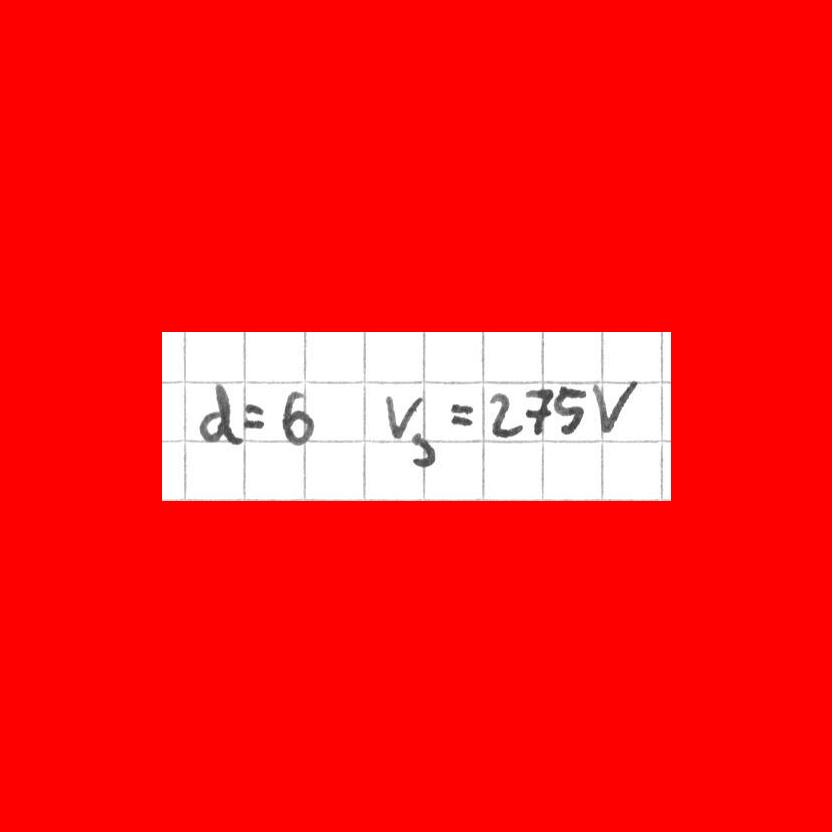Char: (193, 381, 242, 449), (589, 378, 638, 436), (277, 389, 318, 447), (551, 383, 588, 437), (384, 391, 424, 438), (488, 389, 524, 441), (523, 385, 553, 437), (407, 430, 442, 471), (239, 400, 268, 432), (448, 398, 474, 428)
